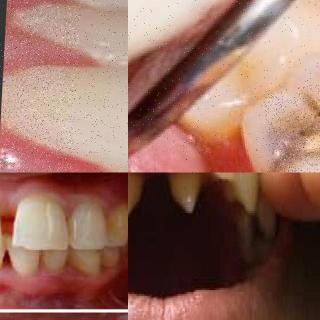Gum Swelling: (4, 15, 90, 97), (0, 120, 104, 172)
cavities: (257, 91, 320, 172)
maligned: (162, 173, 212, 219), (128, 172, 154, 218)
